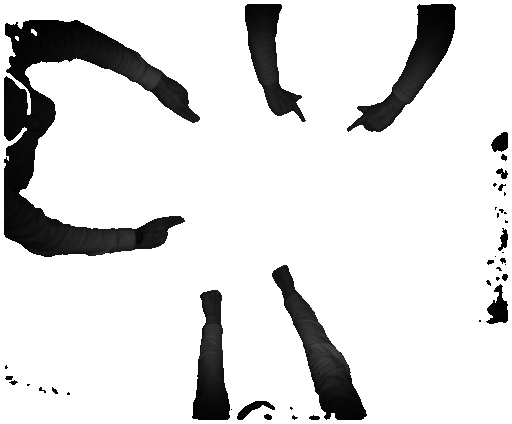fist: (272, 264, 302, 293), (200, 288, 223, 316)
hand: (140, 216, 191, 251), (344, 101, 395, 135), (160, 83, 199, 127), (270, 90, 311, 127)
